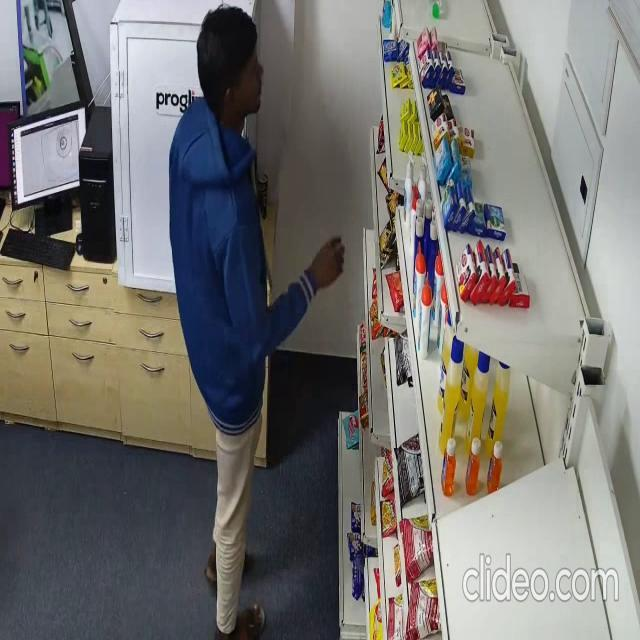normal: (169, 3, 346, 640)
